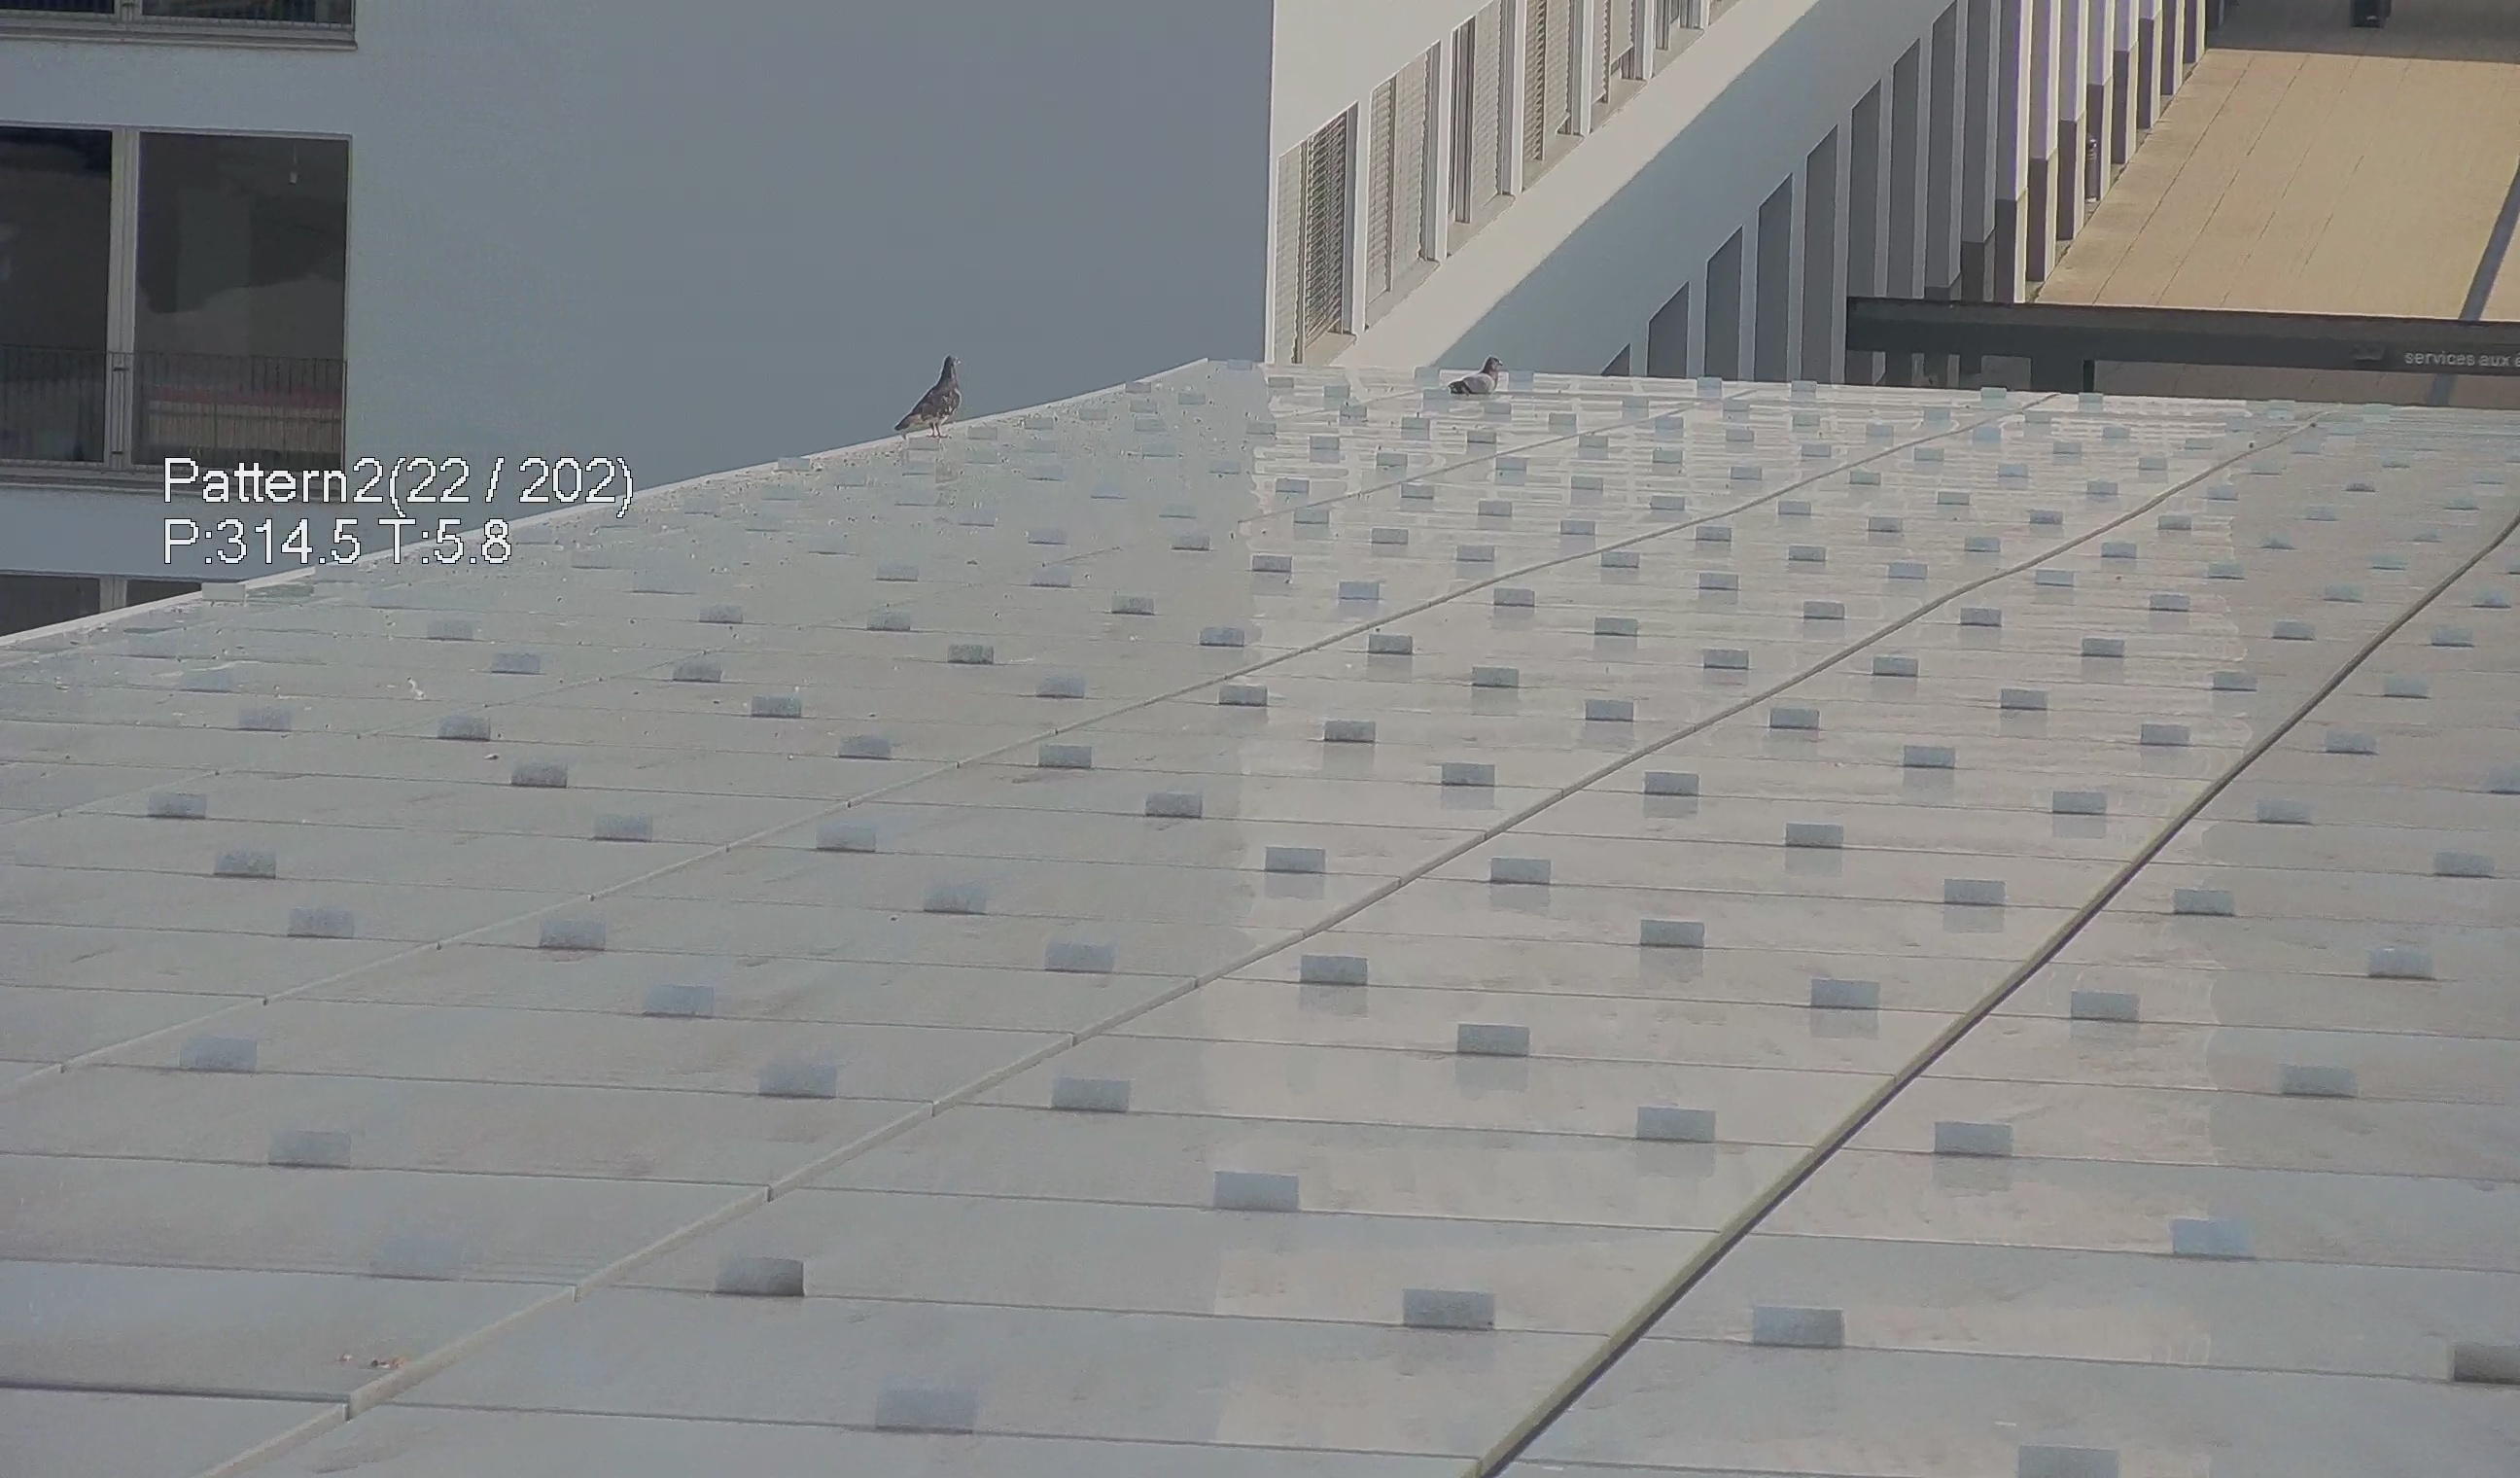Pigeon: (879, 334, 958, 443), (1426, 348, 1514, 413)
